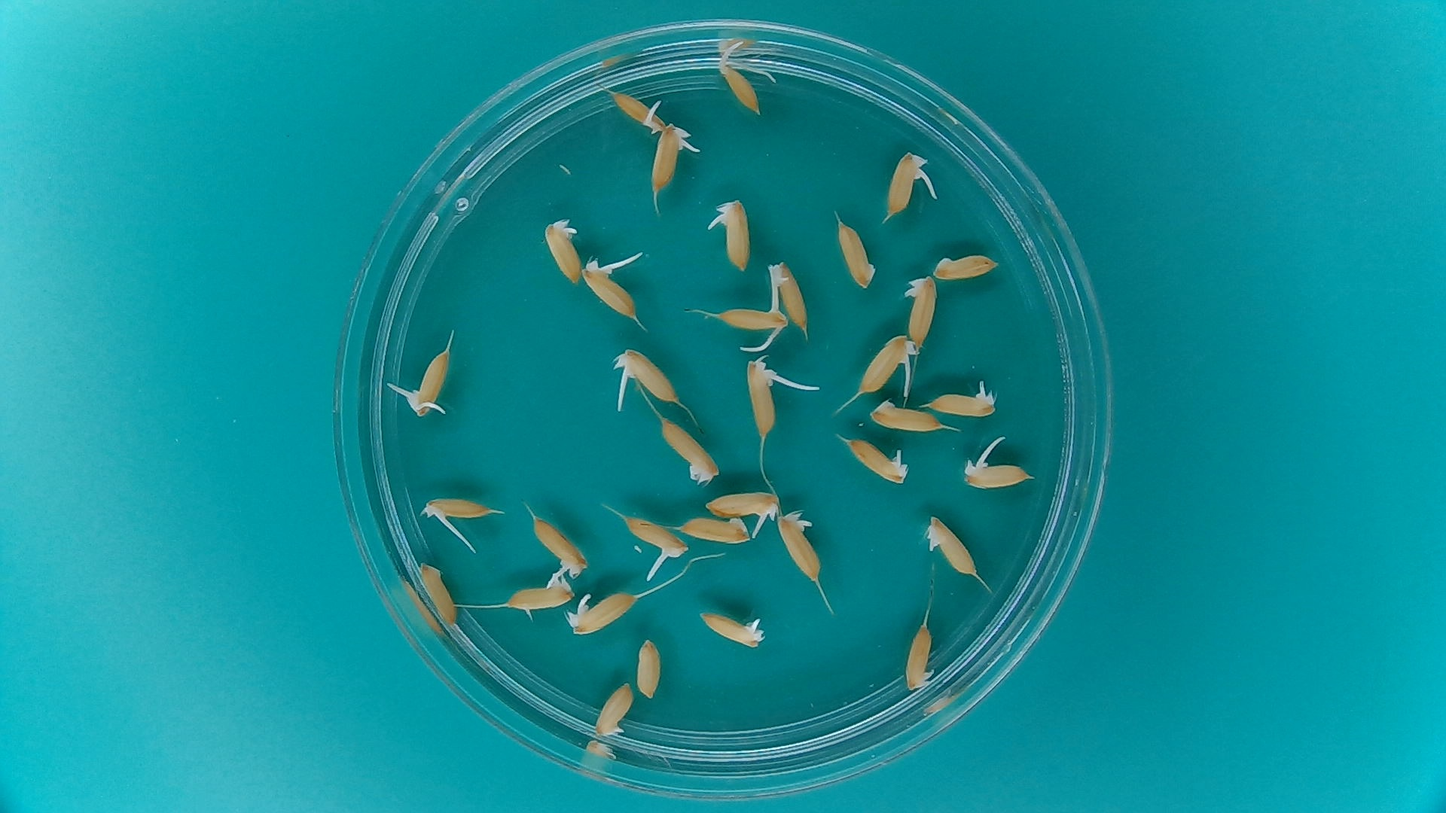no: (657, 416, 722, 485), (921, 512, 981, 579), (767, 257, 816, 337), (831, 215, 880, 293), (866, 394, 947, 433), (900, 271, 939, 349), (417, 559, 461, 628), (591, 679, 636, 738), (502, 575, 572, 611), (675, 514, 750, 546), (929, 249, 1001, 282), (633, 633, 664, 701)
yes: (608, 343, 684, 406), (742, 352, 789, 439), (707, 193, 757, 272), (580, 262, 643, 324), (529, 512, 590, 576), (404, 339, 454, 416), (777, 506, 825, 585), (883, 149, 941, 214), (648, 120, 697, 196), (854, 335, 914, 396), (565, 589, 642, 636), (619, 513, 691, 562), (844, 436, 911, 486), (541, 213, 584, 288), (417, 492, 504, 528), (696, 607, 767, 650), (925, 379, 1002, 418), (710, 297, 789, 335), (701, 487, 782, 524), (608, 87, 670, 131), (900, 620, 937, 693), (716, 58, 765, 111), (959, 461, 1028, 489)
